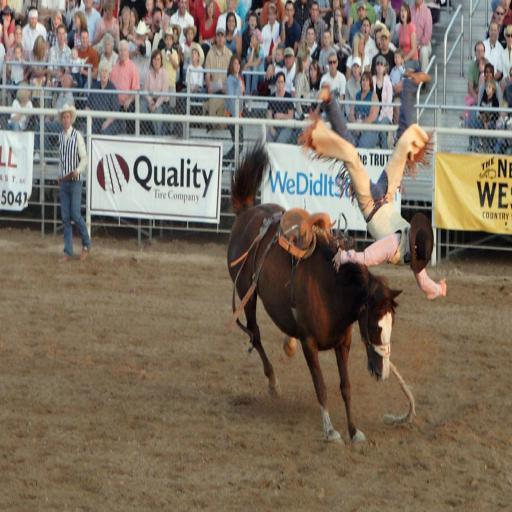horse: (225, 134, 404, 446)
